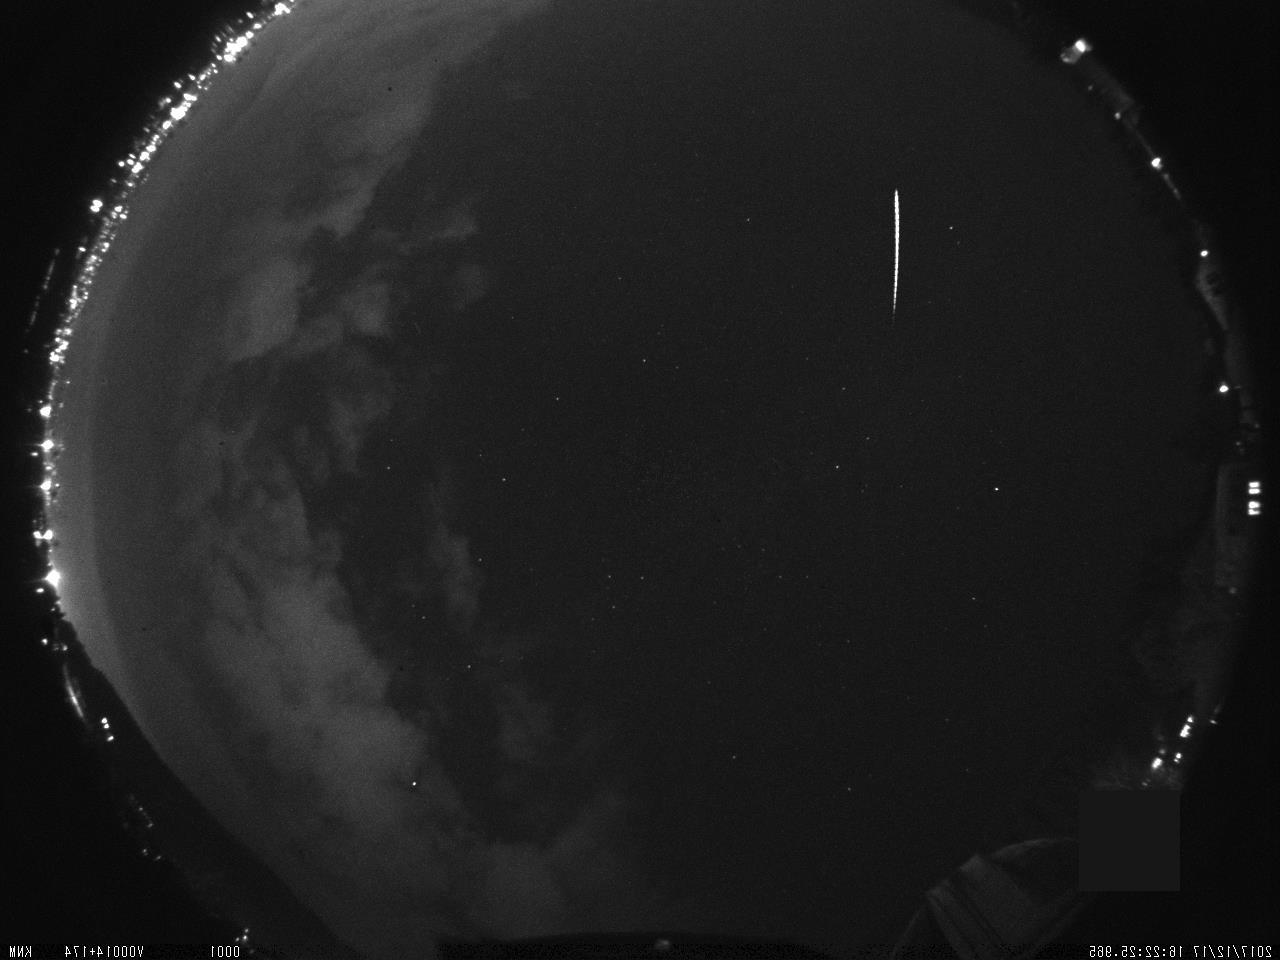meteor: (866, 167, 920, 326)
